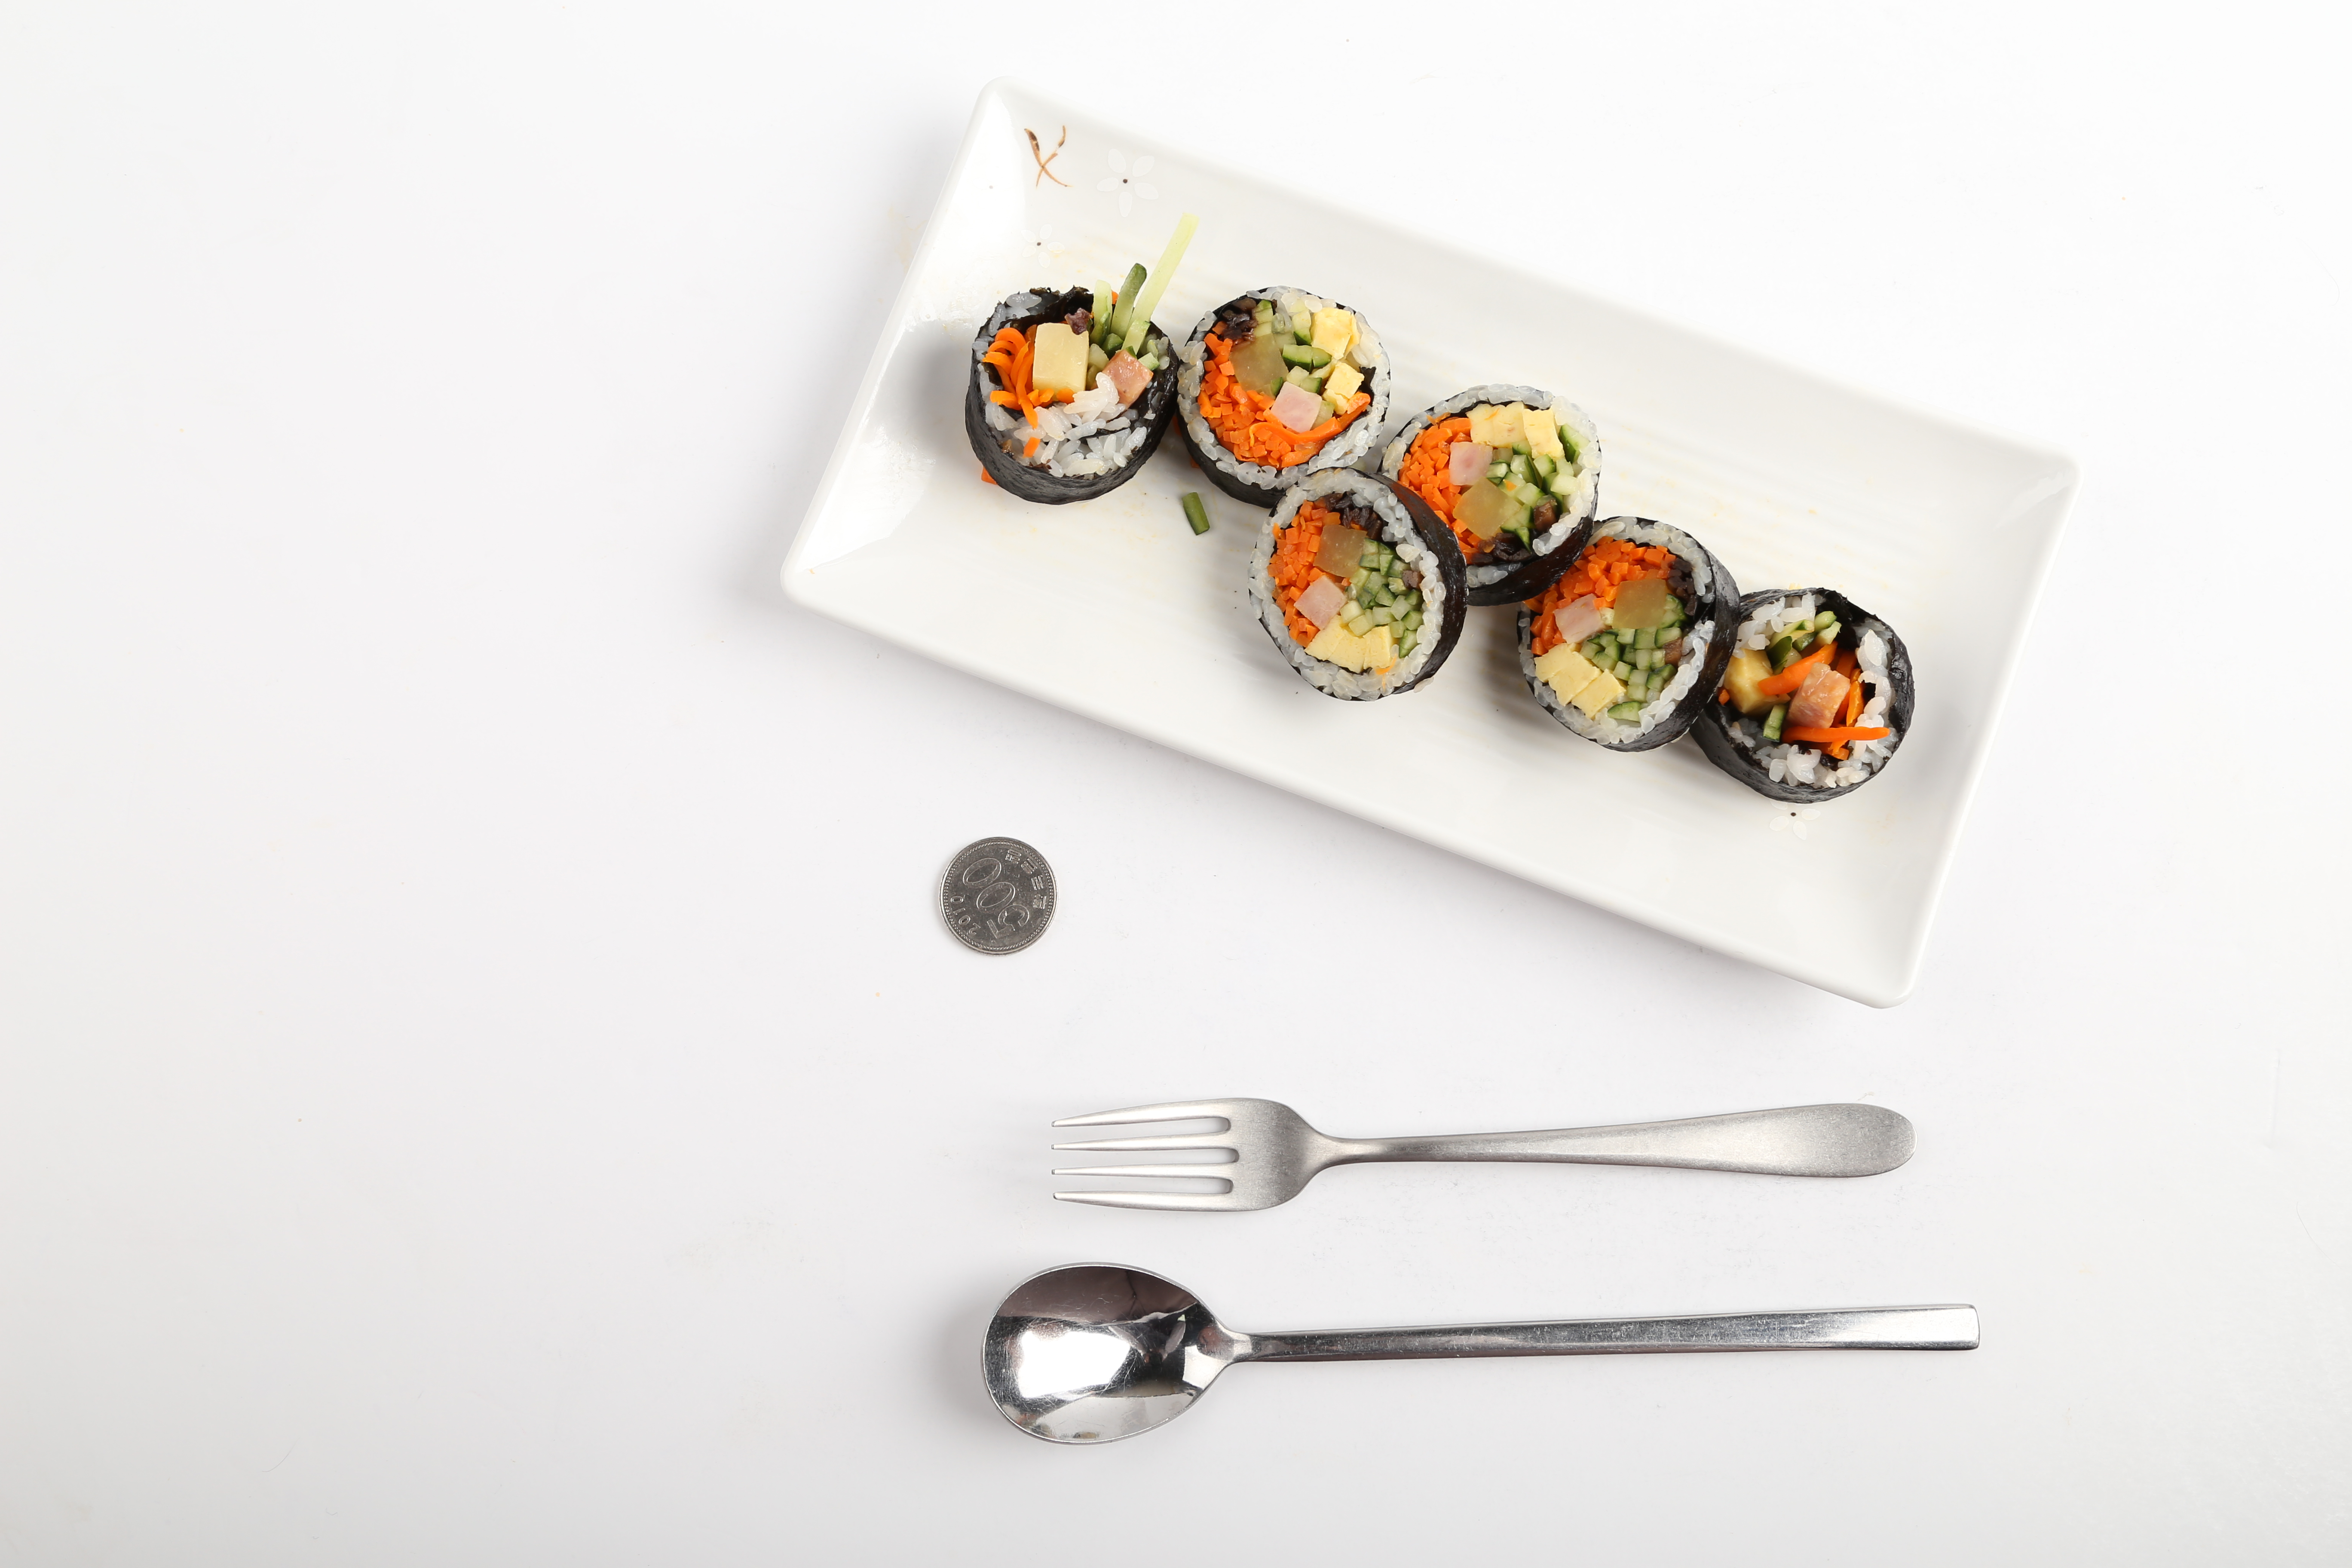dish: (780, 79, 2079, 1010)
ref_coin: (933, 831, 1057, 961)
ref_fork: (1043, 1090, 1384, 1214)
ref_spoon: (978, 1260, 1298, 1449)
김밥: (964, 280, 1916, 807)
